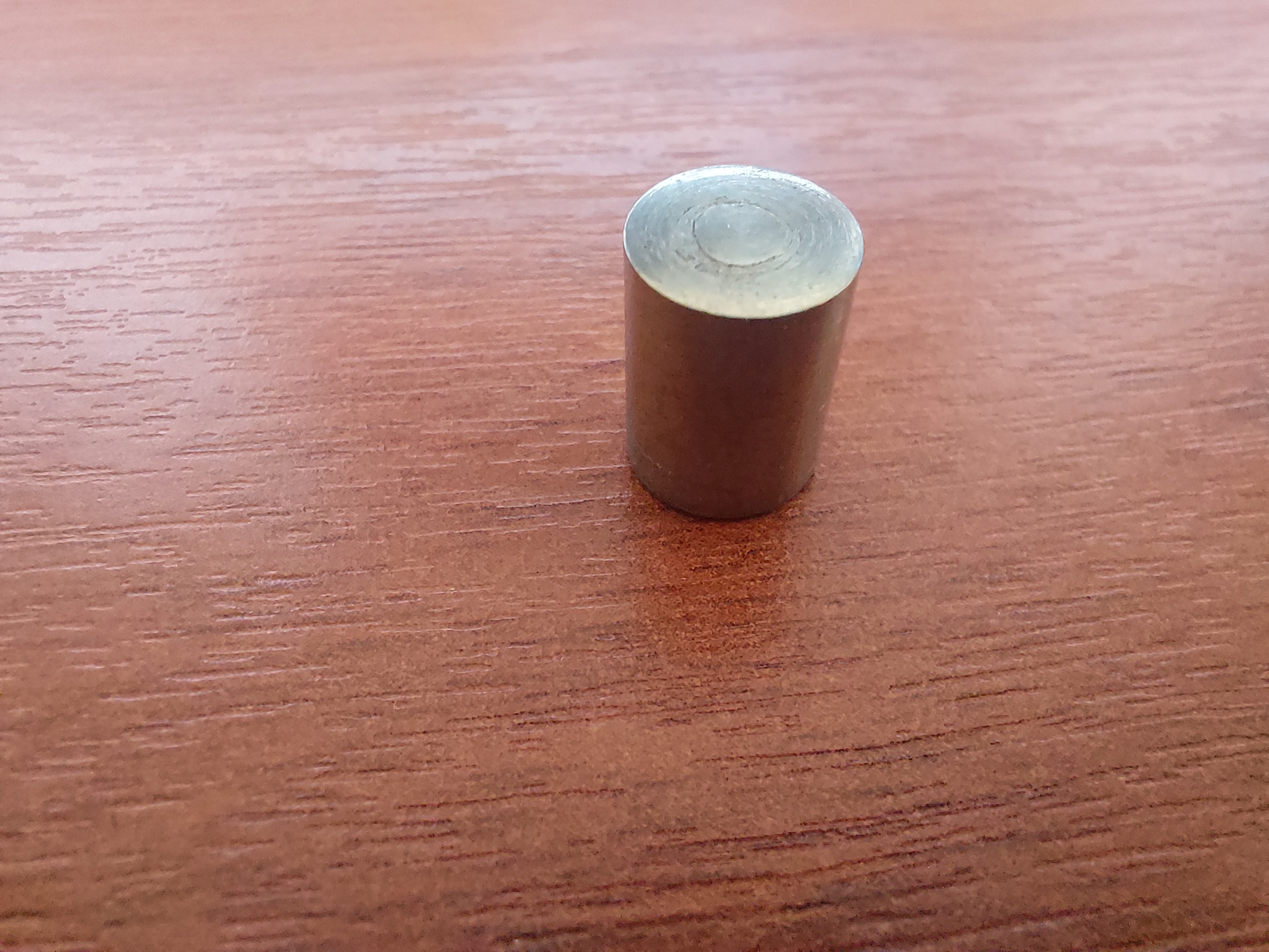tablet: (620, 169, 872, 532)
